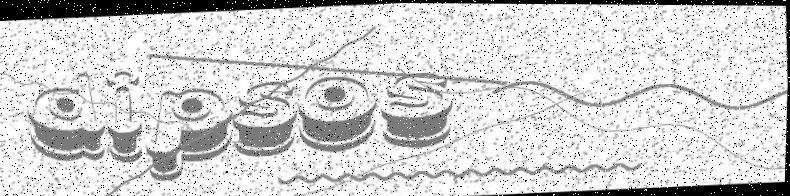d: (25, 72, 107, 163)
i: (104, 70, 145, 163)
o: (296, 72, 378, 153)
p: (143, 85, 235, 181)
s: (379, 70, 455, 149), (229, 79, 301, 157)
